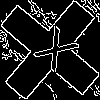X: (25, 25, 81, 82)
